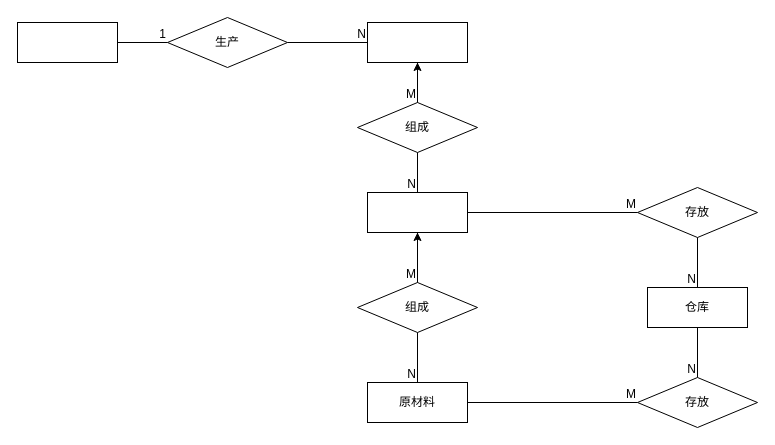
The diagram is 775 pixels wide and 445 high, and some of its shapes have lost their labels. The shapes that lost their labels are listed below. From the top down, each one's centre as x and y in pixels, then its label:
At (x=67, y=42): "工厂".
At (x=417, y=42): "产品".
At (x=417, y=212): "零件".
